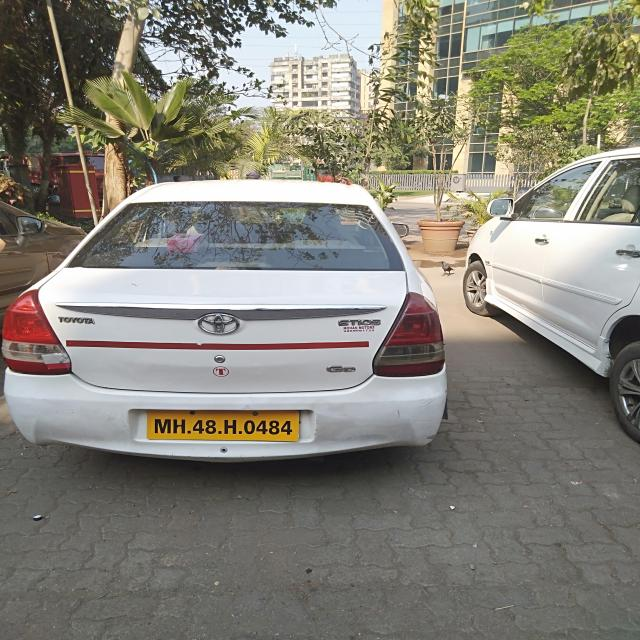Number-Plate: (148, 412, 298, 440)
